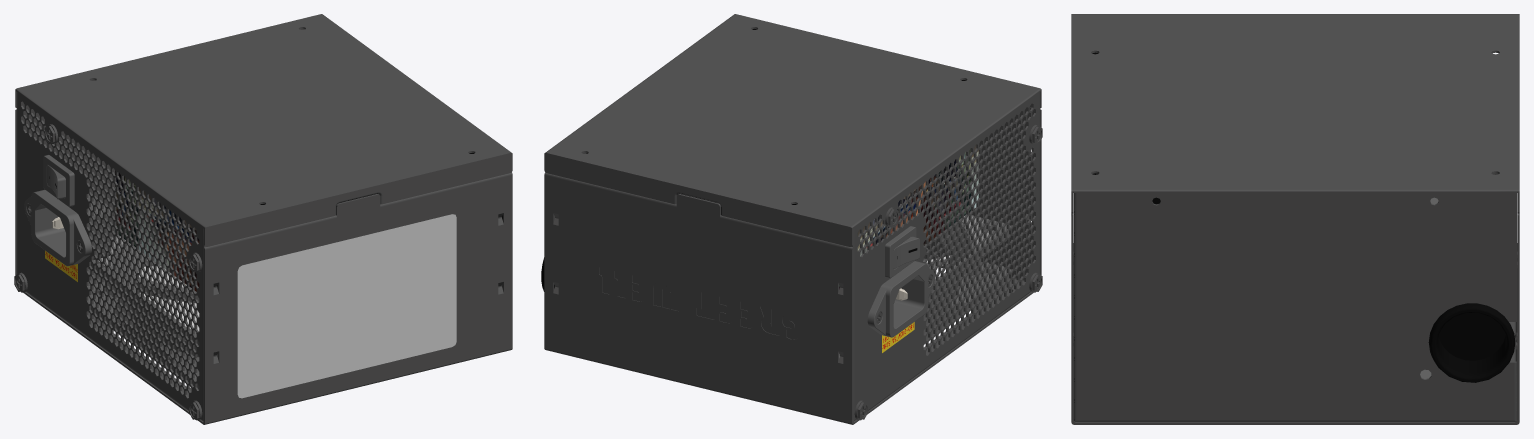
Rendered from psu.glb.
3 views of the same model, side by side, from view 1: azimuth 30°, elevation 25°; view 2: azimuth 150°, elevation 25°; view 3: azimuth 270°, elevation 25° (orthographic). The views are drawn at different scales.
Visible parts, largest first — view 1: power_main, fan_frame, fan.001; view 2: power_main, fan_frame; view 3: power_main.
Boxes of the visible parts, bbox=[...] form: power_main: bbox=[15, 14, 512, 424]; fan_frame: bbox=[88, 236, 217, 390]; fan.001: bbox=[138, 266, 199, 330]; power_main: bbox=[541, 14, 1041, 424]; fan_frame: bbox=[839, 215, 1010, 357]; power_main: bbox=[1071, 14, 1519, 424].
Bounding box in the file's own units: 0.1494 × 0.0885 × 0.15.
16 materials, 2 textured.
